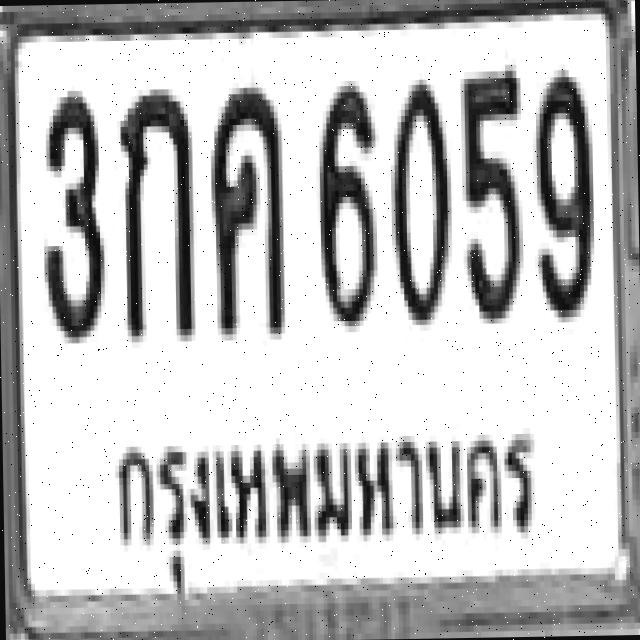0: (387, 72, 451, 319)
10GorGai: (116, 82, 191, 336)
13KhorKhwai: (206, 80, 284, 334)
3: (37, 84, 101, 338)
5: (460, 65, 520, 318)
6: (314, 79, 374, 320)
9: (532, 66, 592, 314)
Bangkok: (105, 410, 553, 600)
